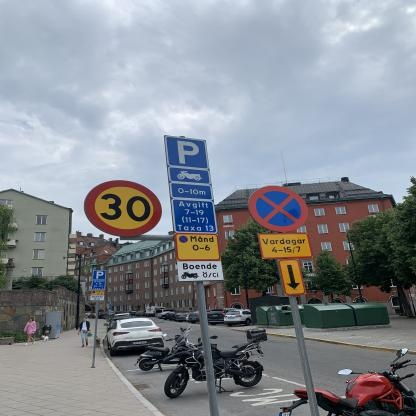P-skylt: (162, 134, 212, 168)
